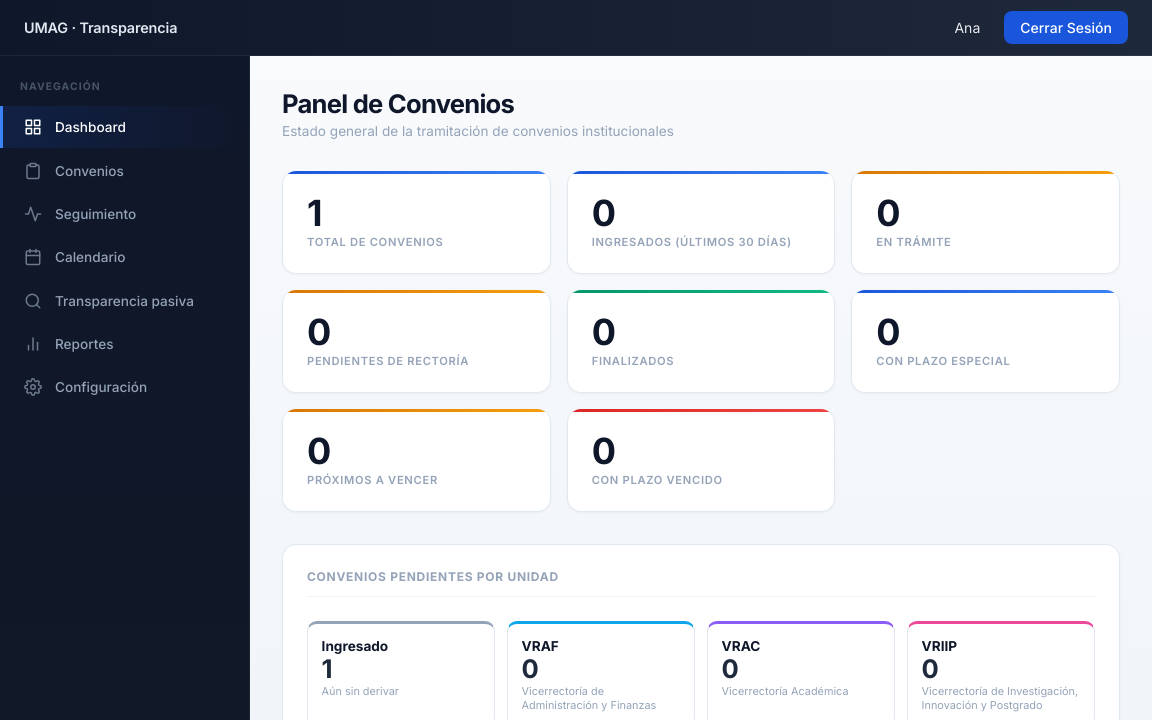
Test: planilla sin responder › no deja borrar: los cambios se perderían al reconectar
Click the text "Configuración" at (86, 387), box top-left (24, 378), bottom-right (147, 396)
(page scrolled)
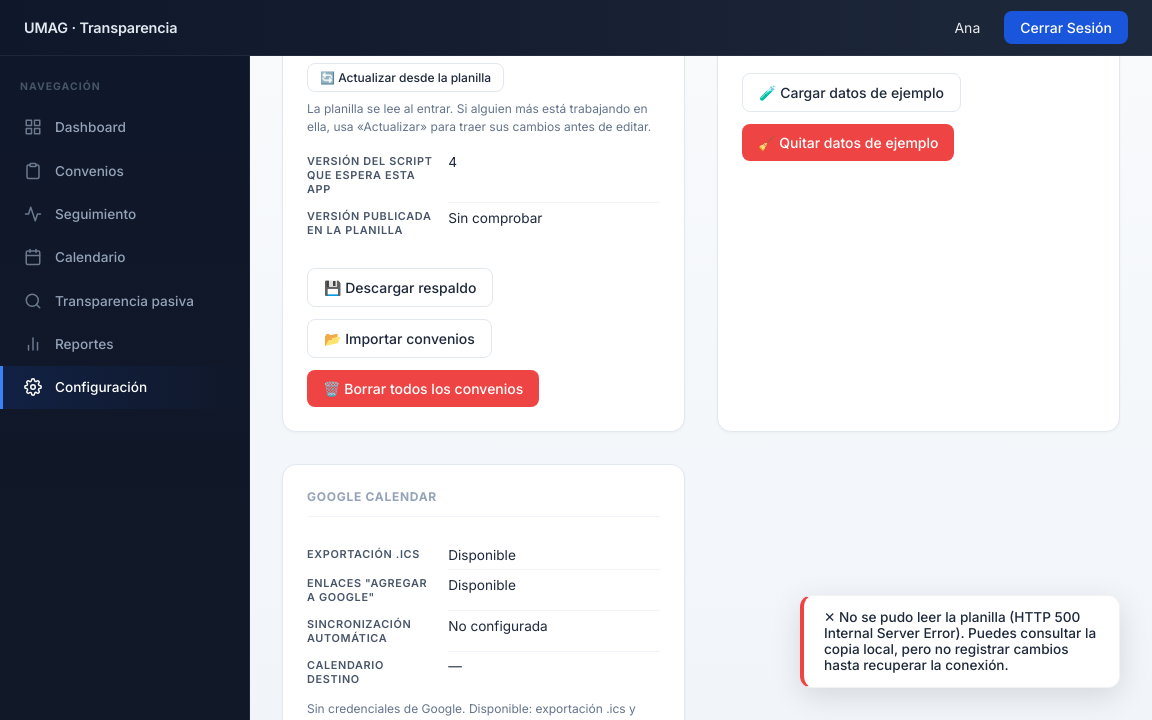
Click the button "🗑️ Borrar todos los convenios" at (423, 388), box top-left (307, 370), bottom-right (539, 407)
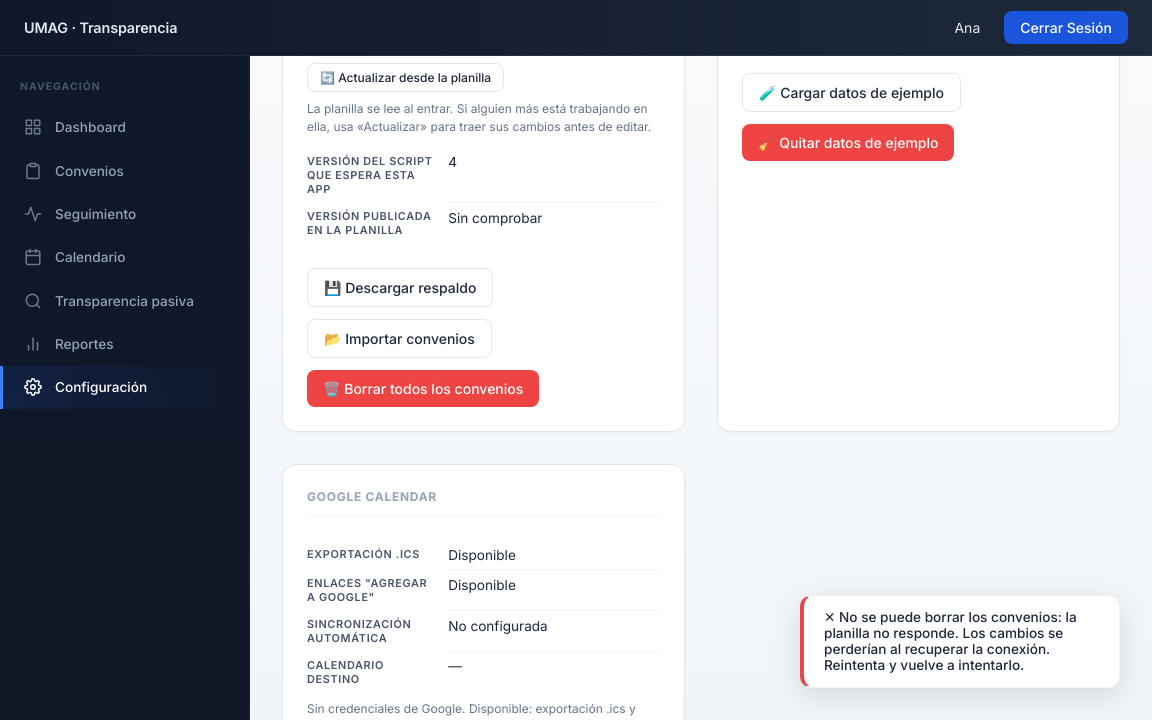
Check: the text "No se puede borrar los convenios" is shown, box top-left (824, 609), bottom-right (1077, 673)
